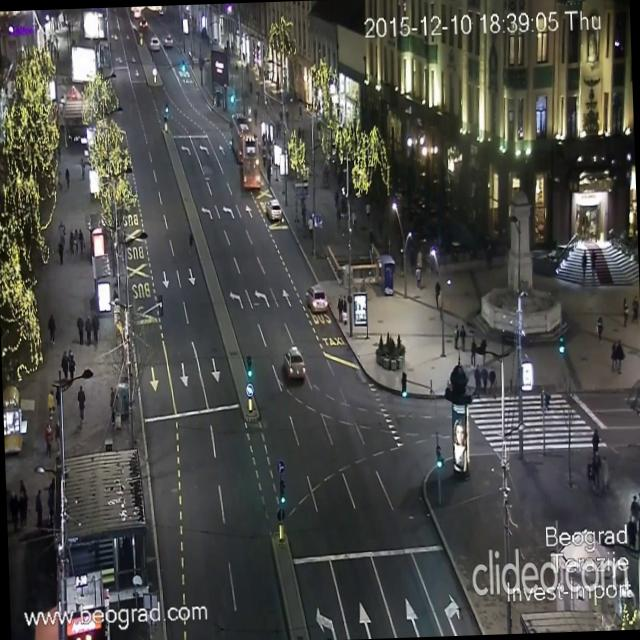bus: (242, 137, 262, 190)
car: (282, 345, 306, 380), (304, 284, 328, 312), (264, 198, 282, 222), (162, 35, 172, 48), (150, 36, 158, 51), (140, 18, 149, 31)
